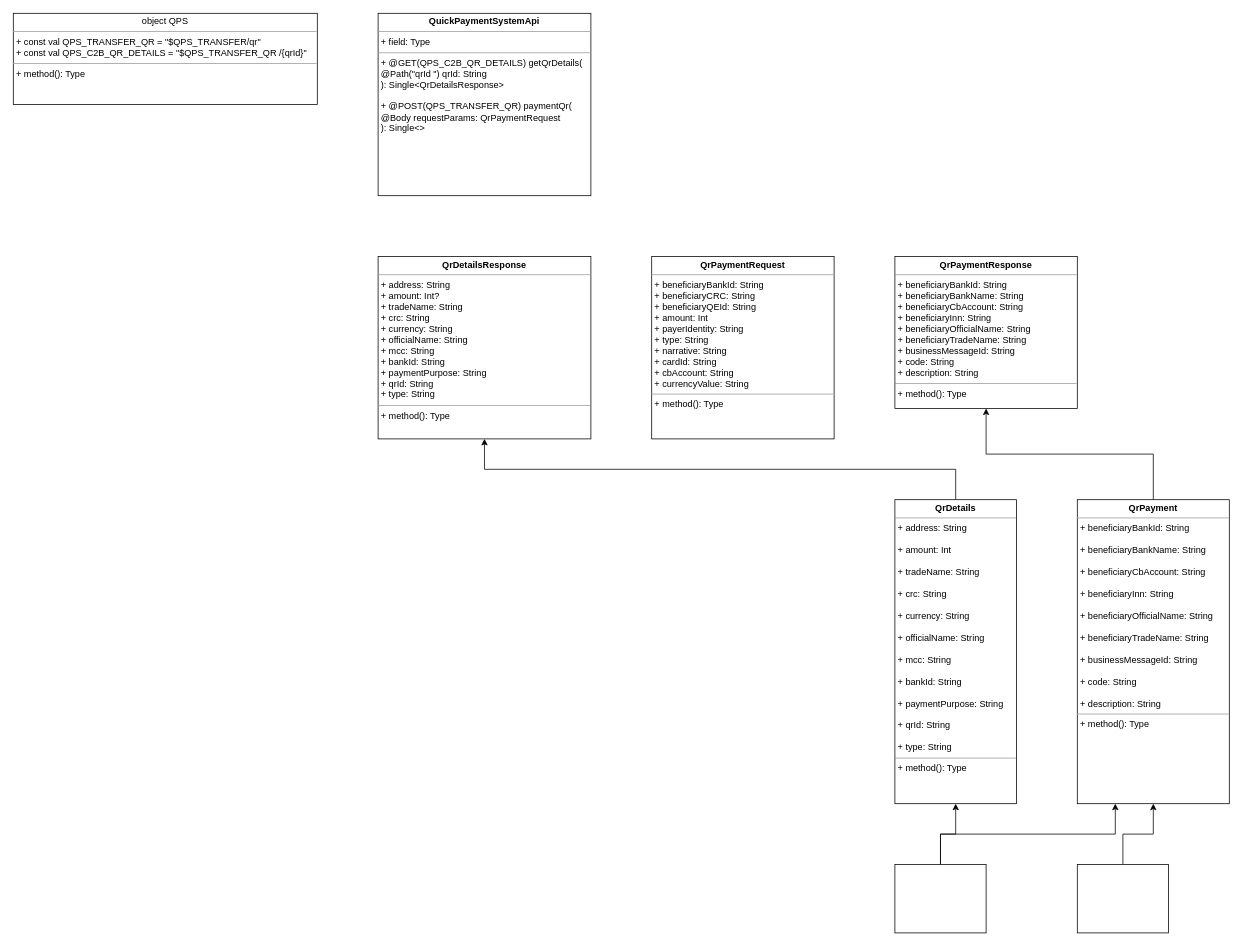
The diagram is 1243 pixels wide and 946 high, and some of its shapes have lost their labels. The shapes that lost their labels are listed below. From the top down, each one's centre as x and y in pixels, then its label:
point 940,898: enum QrDetailsType + QRStat: Type + QRDyn + method(): Type
point 1122,898: enum QrCode + SUCCESS: Type + UNKNOWN + method(): Type
